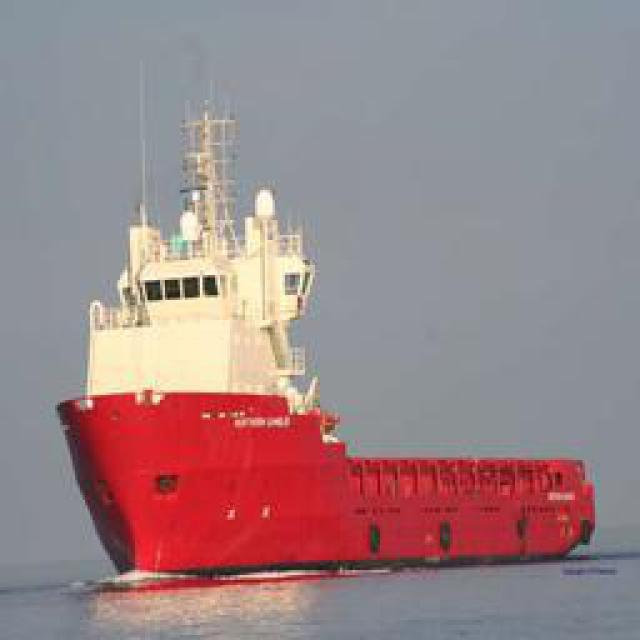Ship: (60, 368, 605, 576)
